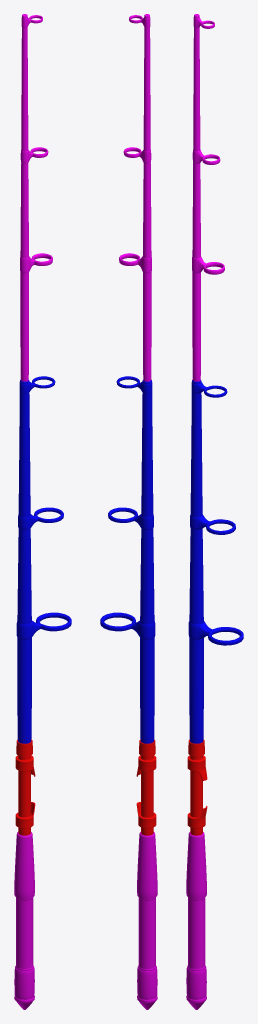
Rendered from Fishing_Rod.fbx.
3 views of the same model, side by side, from view 1: azimuth 30°, elevation 25°; view 2: azimuth 150°, elevation 25°; view 3: azimuth 330°, elevation 25° (orthographic).
Parts seen in each view (by area): view 1: Part_1, Part_2, Cable, Reel_Slot; view 2: Part_1, Part_2, Cable, Reel_Slot; view 3: Part_1, Part_2, Cable, Reel_Slot.
Boxes of the visible parts, x1,y1,x2,y2 form: Part_1: (16, 376, 71, 743); Part_2: (20, 14, 52, 381); Cable: (14, 832, 34, 1009); Reel_Slot: (15, 739, 35, 835); Part_1: (100, 376, 155, 743); Part_2: (119, 14, 151, 381); Cable: (137, 832, 157, 1009); Reel_Slot: (136, 739, 156, 835); Part_1: (188, 380, 243, 743); Part_2: (192, 14, 224, 381); Cable: (186, 832, 206, 1009); Reel_Slot: (187, 739, 207, 835).
Bounding box in the file's own units: 19.86 × 349 × 11.41.
